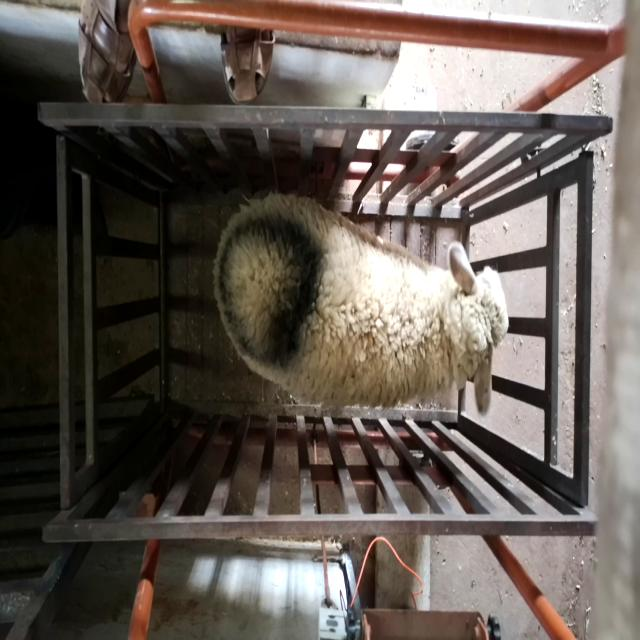sheep: (212, 192, 509, 417)
